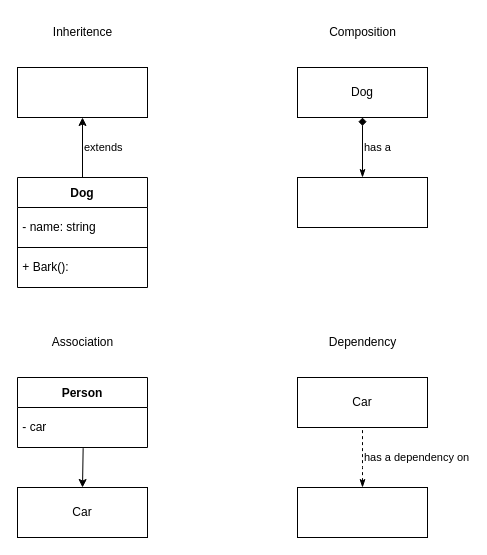
Some shapes in this 487 by 555 pixel diagram are drawn without their labels. The centre of each missing label's shape, as x and y in pixels:
"Animal" belongs at (x=82, y=92).
"Document" belongs at (x=362, y=512).
"Size" belongs at (x=362, y=202).
